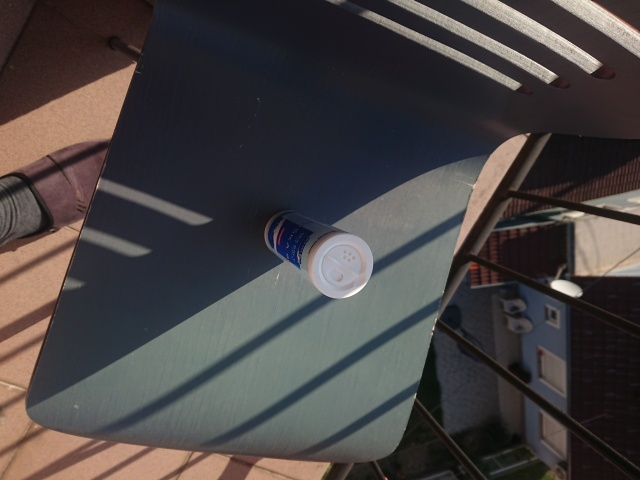Solana Pag Fine Sea Salt 250g: (261, 207, 376, 302)
